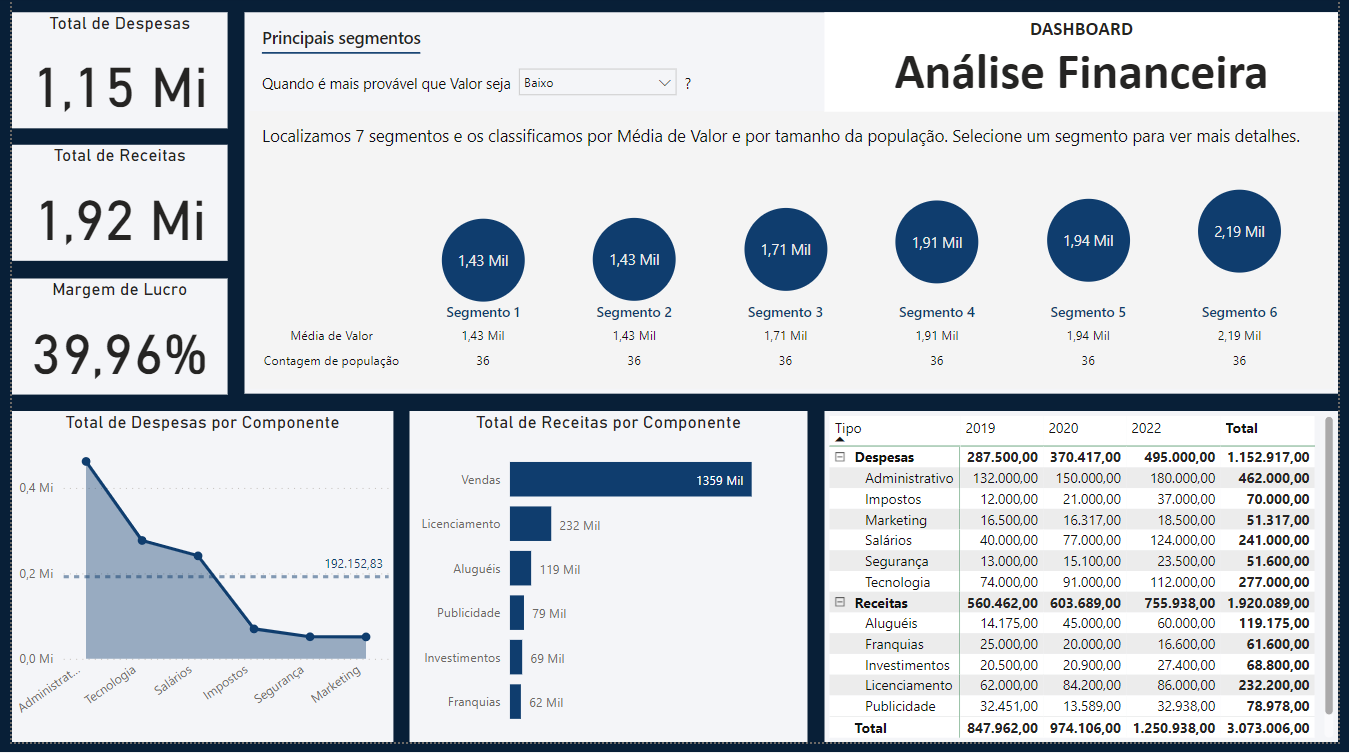

This screenshot's page, from the dashboard's own definition file:
{"tool":"powerbi","page":{"name":"Financeiro","canvas":[1280,720],"ordinal":0},"visuals":[{"type":"card","title":"Total de Despesas","fields":{"Values":["Medidas.TotalDespesas"]},"box":[0,16,208,112],"z":0},{"type":"card","title":"Total de Receitas","fields":{"Values":["Medidas.TotalReceitas"]},"box":[0,144,208,112],"z":1000},{"type":"card","title":"Margem de Lucro","fields":{"Values":["Medidas.MargemLucro"]},"box":[0,272,208,112],"z":2000},{"type":"clusteredBarChart","title":"Total de Receitas por Componente","fields":{"Category":["DadosFinanceiros.Componente"],"Y":["Medidas.TotalReceitas"]},"box":[384,400,384,320],"z":3000},{"type":"areaChart","title":"Total de Despesas por Componente","fields":{"Category":["DadosFinanceiros.Componente"],"Y":["Medidas.TotalDespesas"]},"box":[0,400,368,320],"z":4000},{"type":"pivotTable","fields":{"Rows":["DadosFinanceiros.Tipo","DadosFinanceiros.Componente"],"Columns":["DadosFinanceiros.Data.Variation.Hierarquia de datas.Ano"],"Values":["Sum(DadosFinanceiros.Valor)"]},"box":[784,400,496,320],"z":5000},{"type":"keyDriversVisual","fields":{"Target":["DadosFinanceiros.Valor"],"ExplainBy":["DadosFinanceiros.Tipo","DadosFinanceiros.Componente"]},"box":[224,16,1056,368],"z":6000},{"type":"textbox","box":[784,16,496,96],"z":7000}]}

Visuals, with their boxes in screenshot pixels (x1, y1, x2, y2), scaled from the page's 1280x720 canvas onto the 1349x753 screenshot:
"Total de Despesas" card: <bbox>0, 17, 219, 134</bbox>
"Total de Receitas" card: <bbox>0, 151, 219, 268</bbox>
"Margem de Lucro" card: <bbox>0, 284, 219, 402</bbox>
"Total de Receitas por Componente" clusteredBarChart: <bbox>405, 418, 809, 752</bbox>
"Total de Despesas por Componente" areaChart: <bbox>0, 418, 388, 752</bbox>
pivotTable - DadosFinanceiros.Tipo x DadosFinanceiros.Componente: <bbox>826, 418, 1348, 752</bbox>
keyDriversVisual - DadosFinanceiros.Valor x DadosFinanceiros.Tipo: <bbox>236, 17, 1348, 402</bbox>
textbox: <bbox>826, 17, 1348, 117</bbox>
